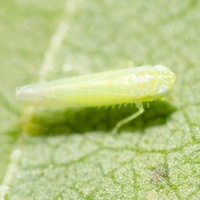insect: (16, 65, 175, 133)
